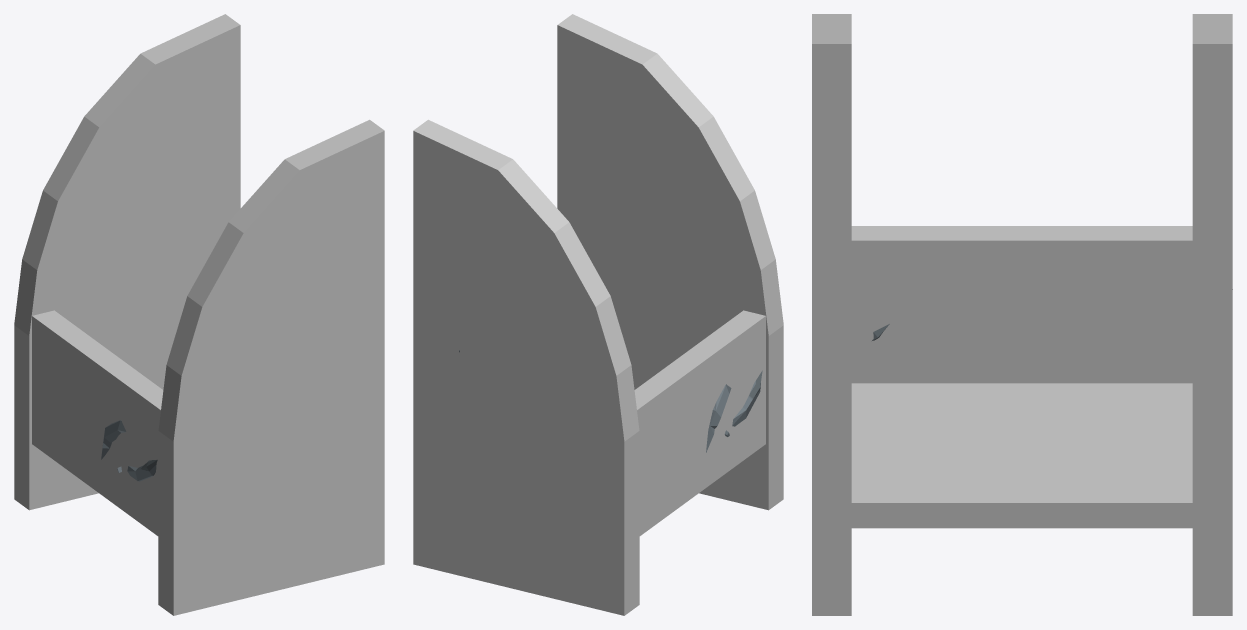
The model's file is SM_Bld_Balcony_02.fbx.
The picture shows the model from 3 angles, left to right: view 1: azimuth 30°, elevation 25°; view 2: azimuth 150°, elevation 25°; view 3: azimuth 270°, elevation 25°; orthographic projection. The views are drawn at different scales.
Visible parts, largest first — view 1: SM_Bld_Balcony_02_ConvexHulls, SM_Bld_Balcony_02; view 2: SM_Bld_Balcony_02_ConvexHulls, SM_Bld_Balcony_02; view 3: SM_Bld_Balcony_02_ConvexHulls.
Part boxes in pixels (box(x1,y1,x2,y2)): SM_Bld_Balcony_02_ConvexHulls: box(14, 14, 384, 615); SM_Bld_Balcony_02: box(101, 420, 157, 481); SM_Bld_Balcony_02_ConvexHulls: box(413, 14, 783, 615); SM_Bld_Balcony_02: box(459, 350, 762, 452); SM_Bld_Balcony_02_ConvexHulls: box(812, 14, 1232, 615).
Size of the model in its own units: 196 by 253 by 379.
Materials: 2 (1 with a texture image).
